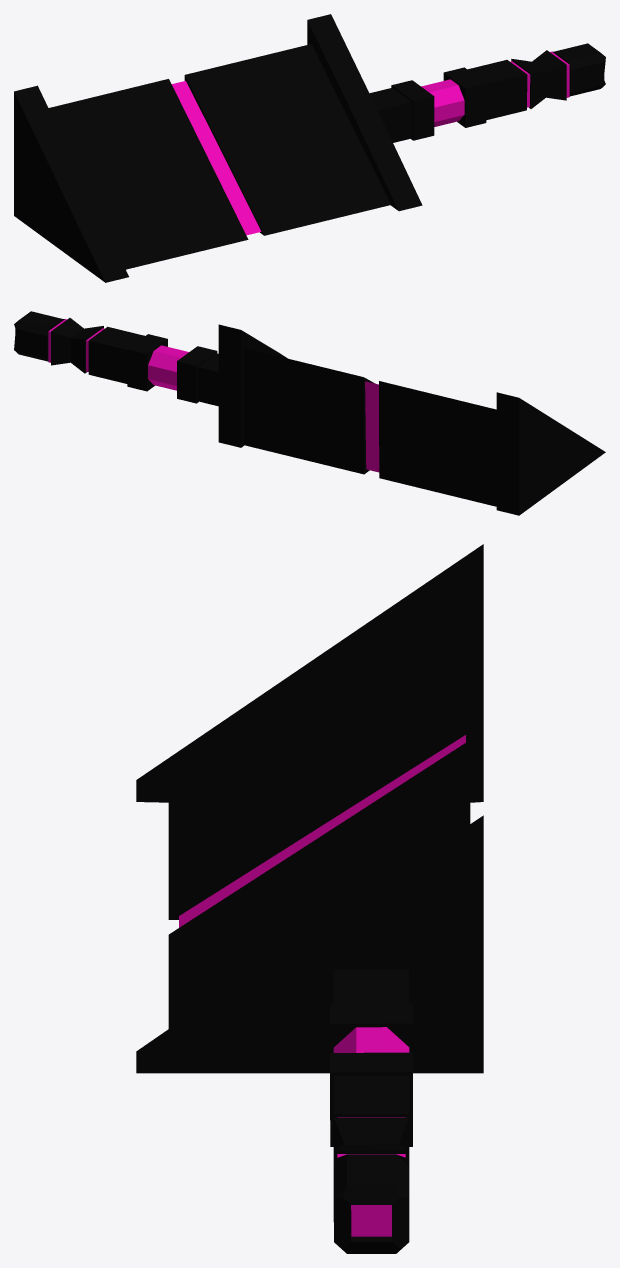
Rendered from Hunmer 1.fbx.
3 views of the same model, one above another, from view 1: azimuth 30°, elevation 25°; view 2: azimuth 150°, elevation 25°; view 3: azimuth 270°, elevation 25° (orthographic). The views are drawn at different scales.
Parts seen in each view (by area): view 1: Cube; view 2: Cube; view 3: Cube.
Part boxes in pixels (left/top/right/bottom): Cube: left=14, top=14, right=605, bottom=282; Cube: left=14, top=311, right=605, bottom=515; Cube: left=136, top=544, right=483, bottom=1253.
Size of the model in its own units: 700 by 150 by 200.
